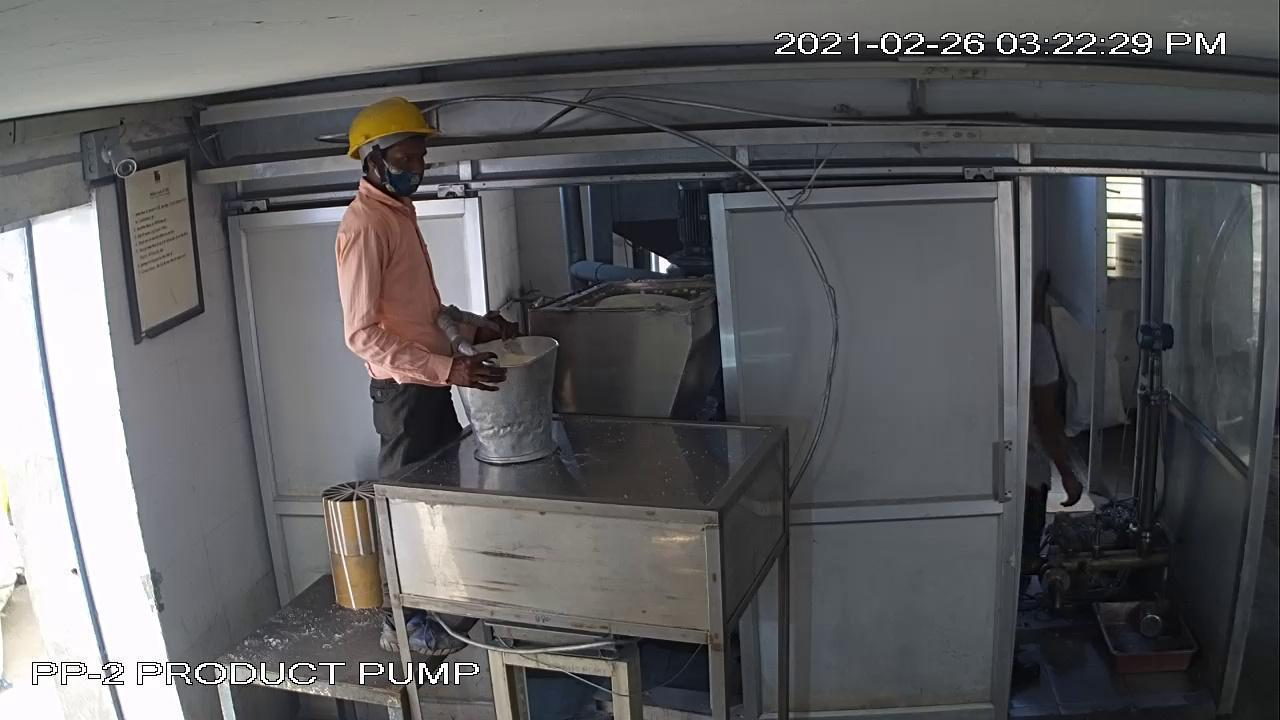helmet: (338, 87, 454, 179)
